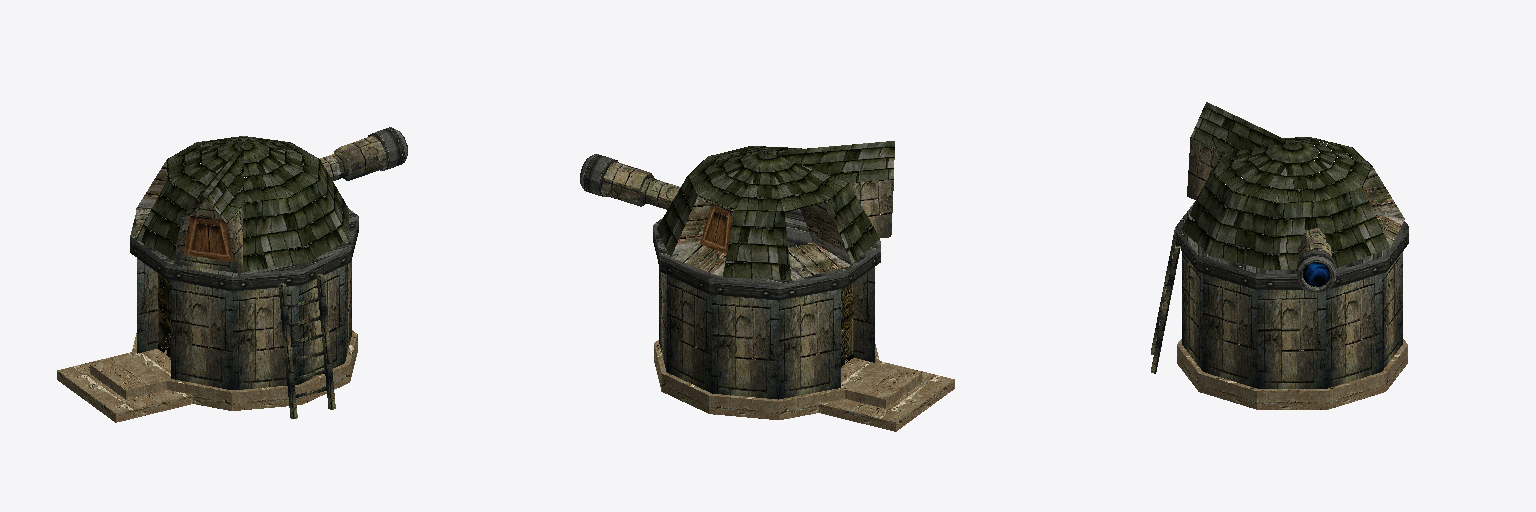
3 views of the same model, side by side, from view 1: azimuth 30°, elevation 25°; view 2: azimuth 150°, elevation 25°; view 3: azimuth 270°, elevation 25° (orthographic).
Visible parts, largest first — view 1: Mesh_1, Mesh_4, Mesh_3, Mesh_0, Mesh_6, Mesh_2, Mesh_5; view 2: Mesh_1, Mesh_4, Mesh_3, Mesh_0, Mesh_5, Mesh_6, Mesh_2; view 3: Mesh_1, Mesh_4, Mesh_0, Mesh_3, Mesh_5.
Boxes of the visible parts, box(x1,y1,x2,y2) form: Mesh_1: box(137, 136, 385, 418); Mesh_4: box(136, 136, 348, 271); Mesh_3: box(57, 298, 357, 422); Mesh_0: box(130, 127, 407, 291); Mesh_6: box(183, 153, 236, 261); Mesh_2: box(158, 274, 170, 357); Mesh_5: box(136, 138, 241, 236); Mesh_1: box(602, 162, 893, 399); Mesh_4: box(657, 141, 894, 279); Mesh_3: box(654, 330, 954, 431); Mesh_0: box(580, 154, 880, 300); Mesh_5: box(671, 196, 851, 279); Mesh_6: box(700, 204, 882, 253); Mesh_2: box(841, 282, 853, 366); Mesh_1: box(1151, 130, 1402, 388); Mesh_4: box(1182, 102, 1389, 270); Mesh_0: box(1176, 184, 1408, 292); Mesh_3: box(1177, 339, 1407, 409); Mesh_5: box(1297, 153, 1404, 247).
Size of the model in its own units: 6.43 by 4.15 by 4.4.
9 materials, 9 textured.